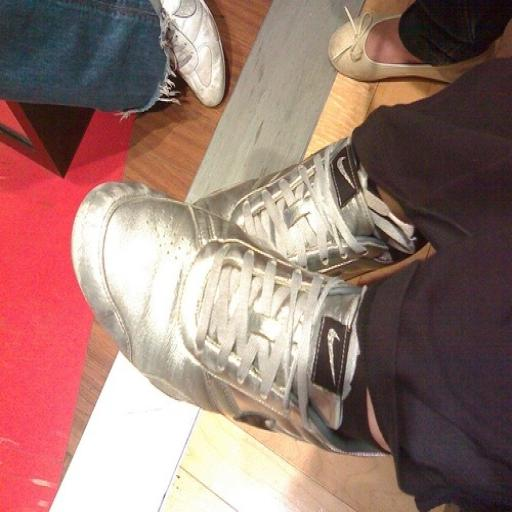shoe: (72, 183, 378, 455), (196, 138, 416, 278), (328, 10, 494, 83), (161, 0, 225, 106)
